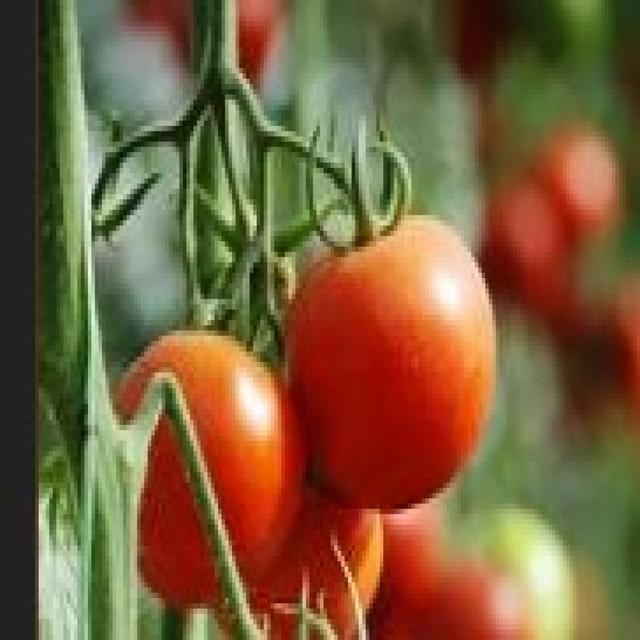Healthy Fruit: (80, 98, 262, 375)
